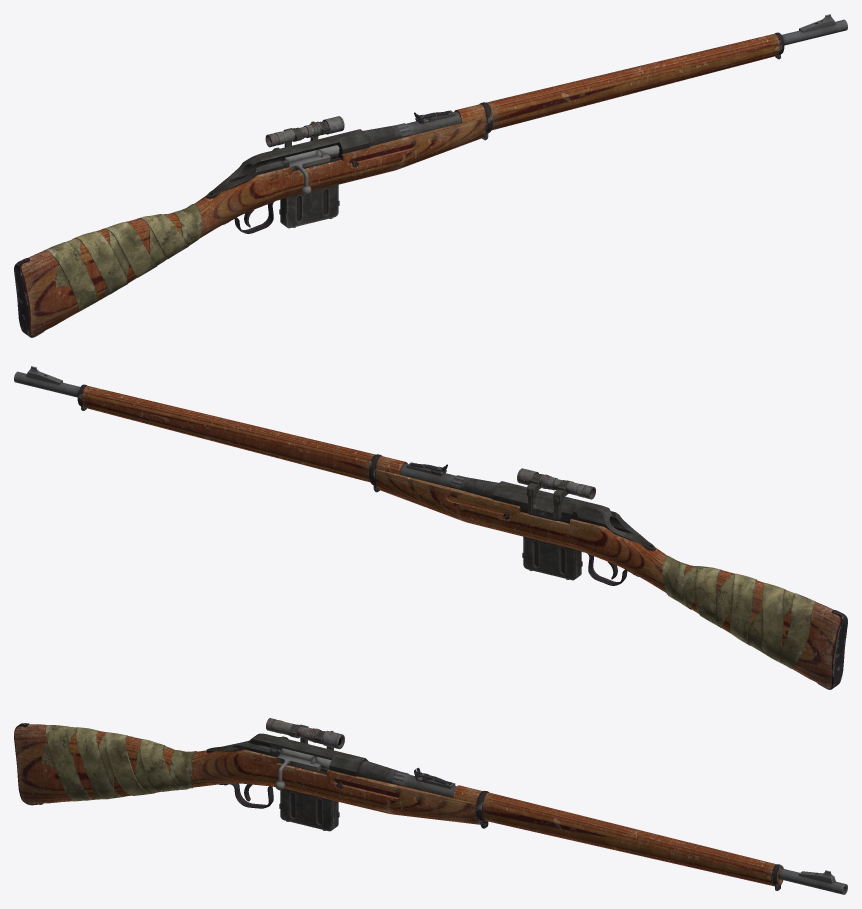
Rendered from SM_Rifle.gltf.
3 renders of one model, top to bottom at view 1: azimuth 30°, elevation 25°; view 2: azimuth 150°, elevation 25°; view 3: azimuth 330°, elevation 25°, orthographic.
Visible parts, largest first — view 1: SM_Rifle; view 2: SM_Rifle; view 3: SM_Rifle.
Boxes of the visible parts, <box> form: SM_Rifle: <box>14,14,847,337</box>; SM_Rifle: <box>14,366,847,689</box>; SM_Rifle: <box>14,718,847,894</box>.
Size of the model in its own units: 1.1 by 0.1828 by 0.0595.
3 materials, 3 textured.
